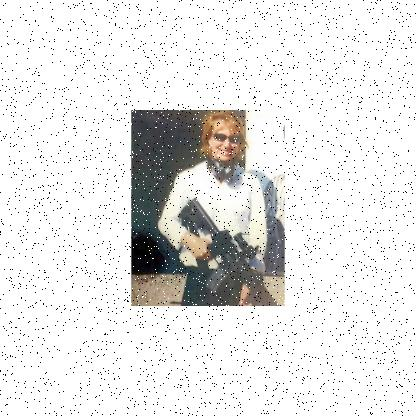gun: (176, 193, 274, 302)
